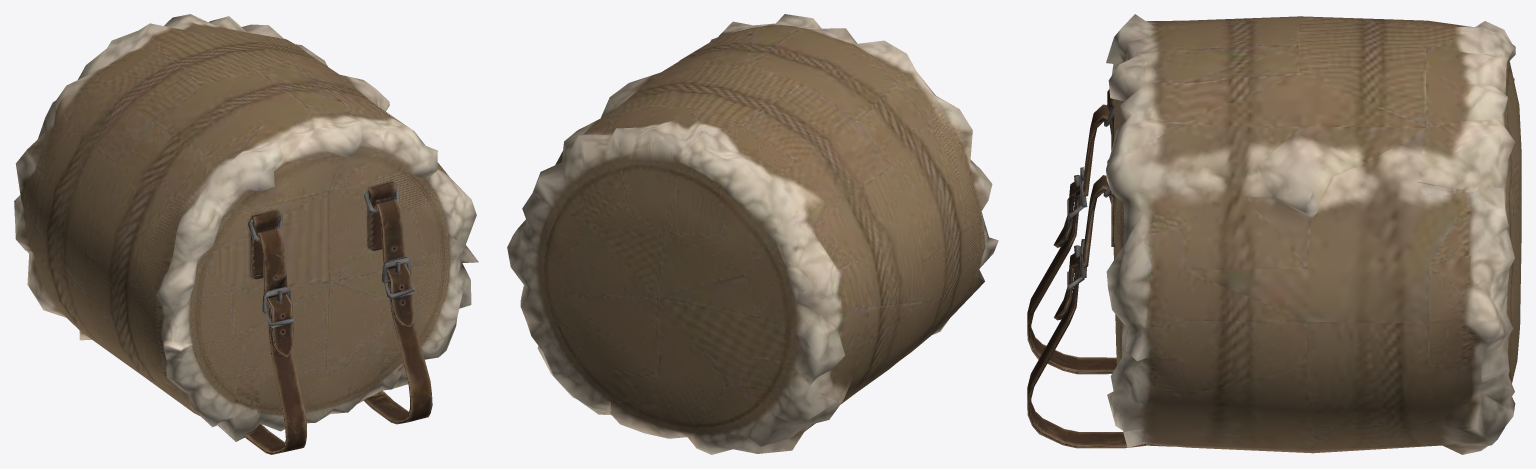
Rendered from pack_fleeceBale.glb.
The picture shows the model from 3 angles, left to right: view 1: azimuth 30°, elevation 25°; view 2: azimuth 150°, elevation 25°; view 3: azimuth 270°, elevation 25°; orthographic projection. The views are drawn at different scales.
Size of the model in its own units: 0.8837 by 0.7793 by 0.9492.
1 material, 1 textured.
